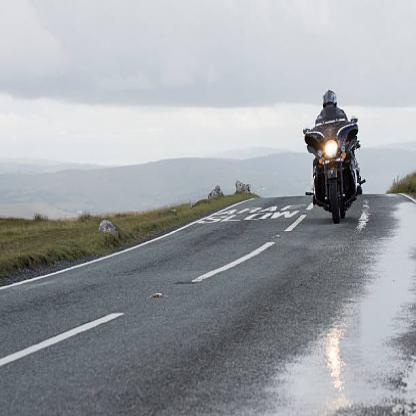Motorcycle: (295, 107, 368, 219)
